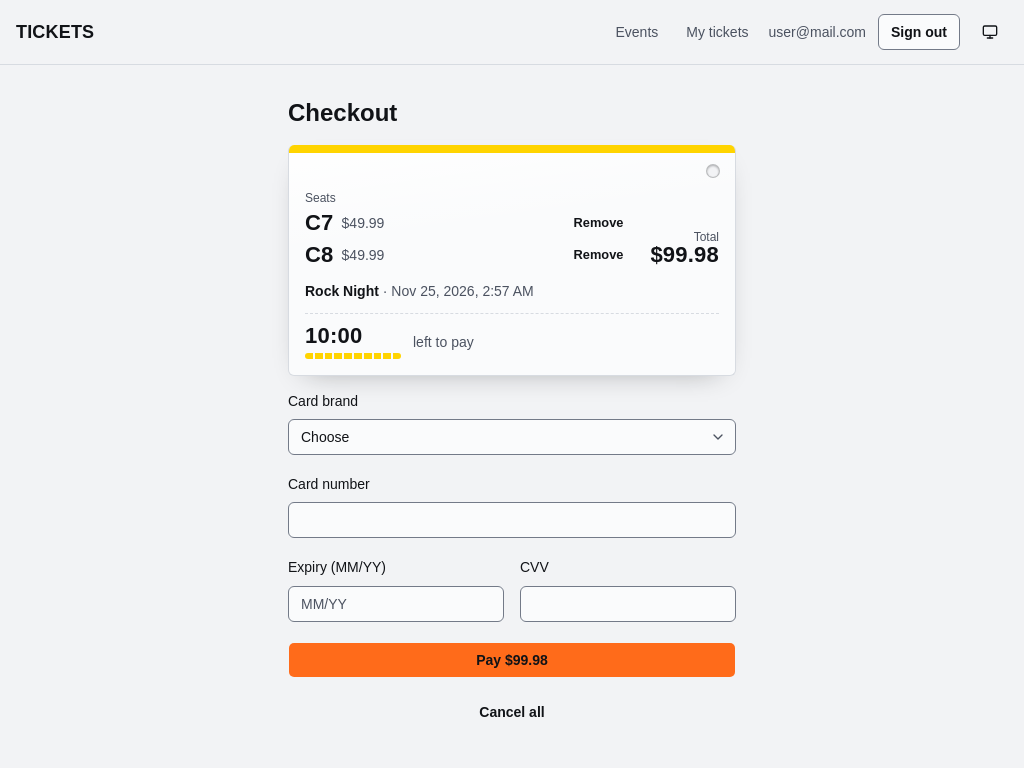
Test: group checkout: paying › sends one request on a double click
Select "VISA" in the dropdown labelled "Card brand" at (512,437), box [288, 419, 736, 455]
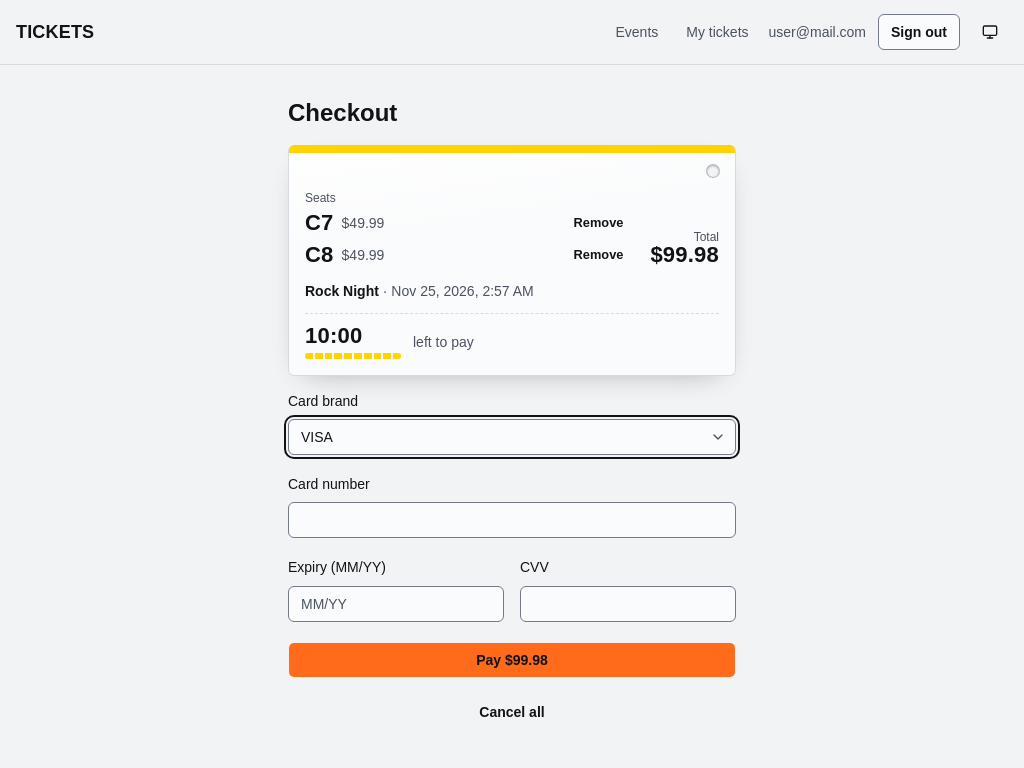
Type "4111111111111111" into the field labelled "Card number" at (512,520), box [288, 502, 736, 538]
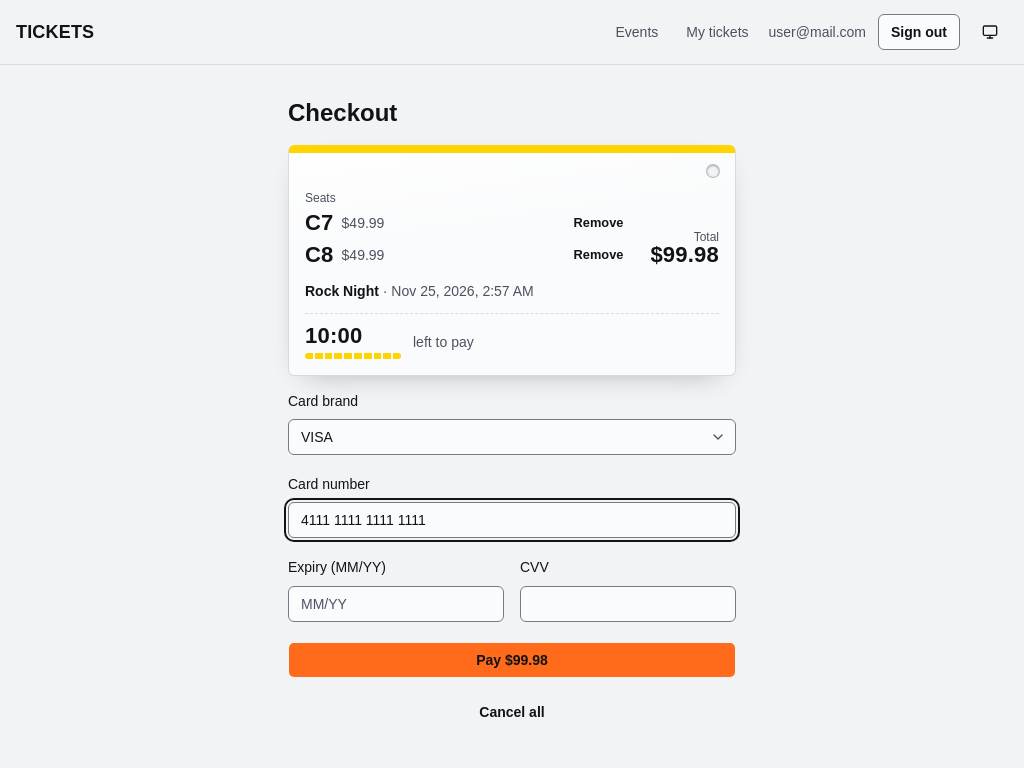
Type "1299" into the field labelled "Expiry (MM/YY)" at (396,604), box [288, 586, 504, 622]
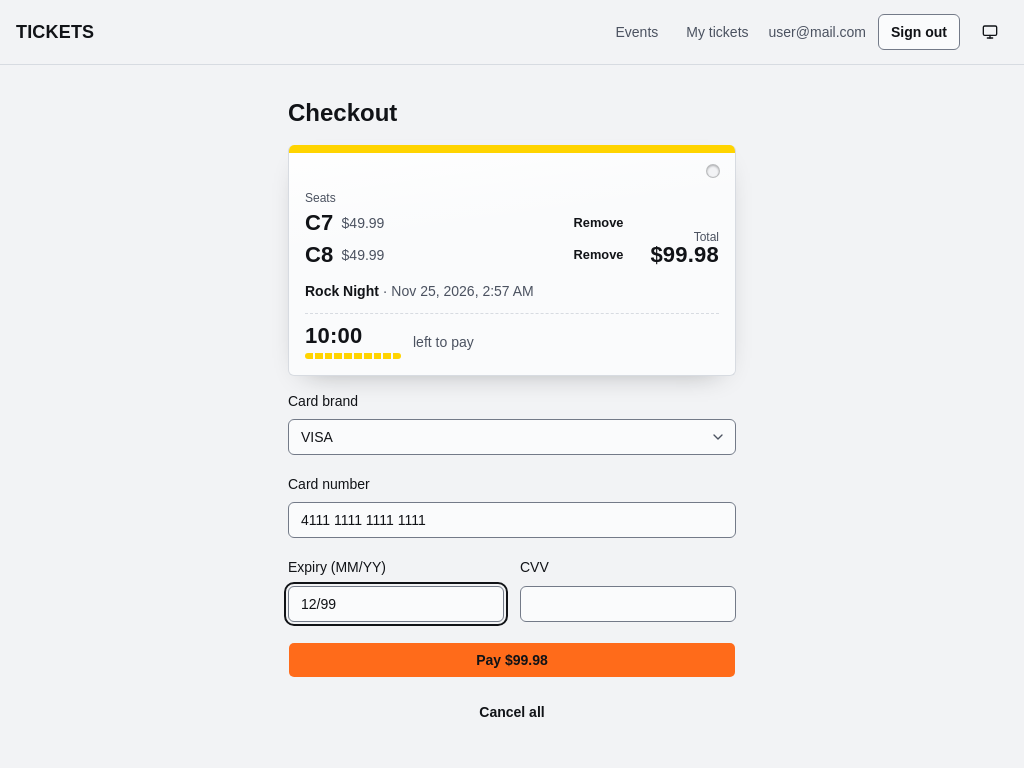
Type "123" into the field labelled "CVV" at (628,604), box [520, 586, 736, 622]
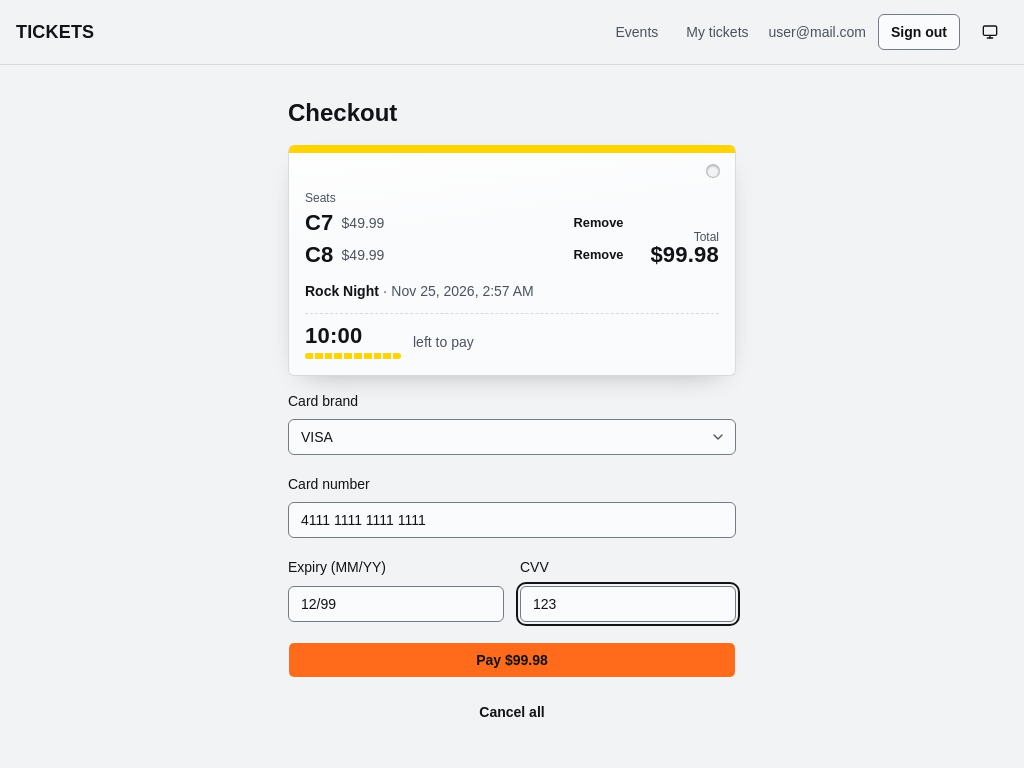
Double-click the button "Pay $99.98" at (512,660), box [288, 642, 736, 678]
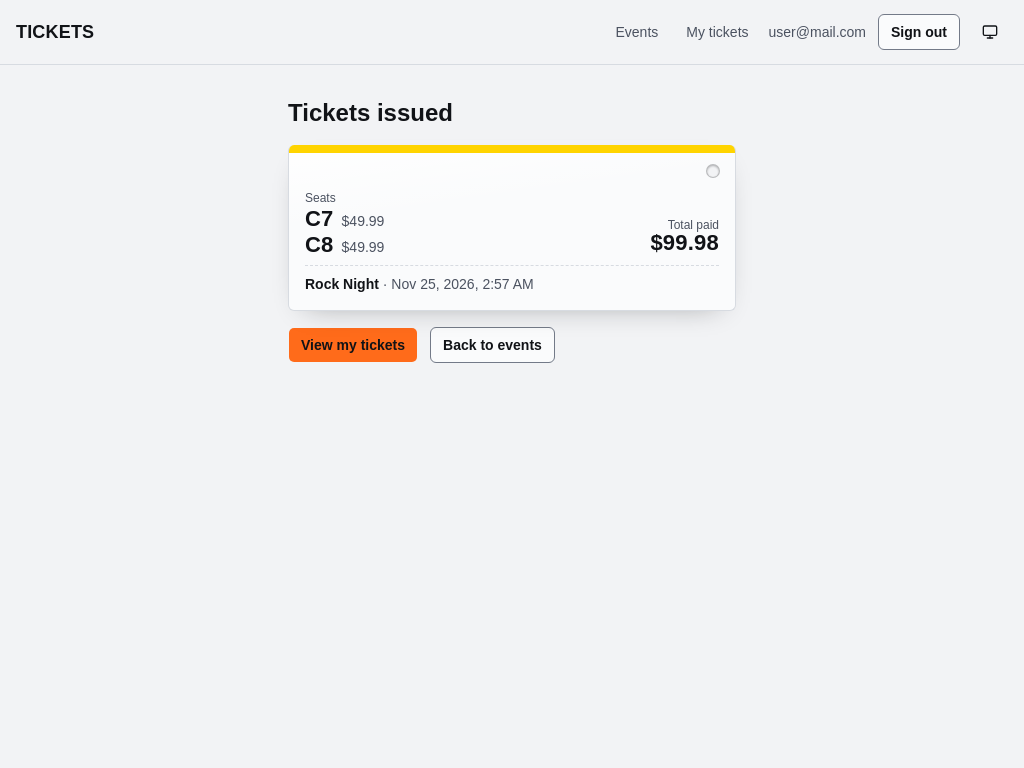
Now the heading "Tickets issued" is shown, box [288, 99, 453, 126]
